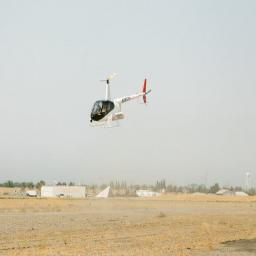helicopter: (91, 73, 152, 130)
